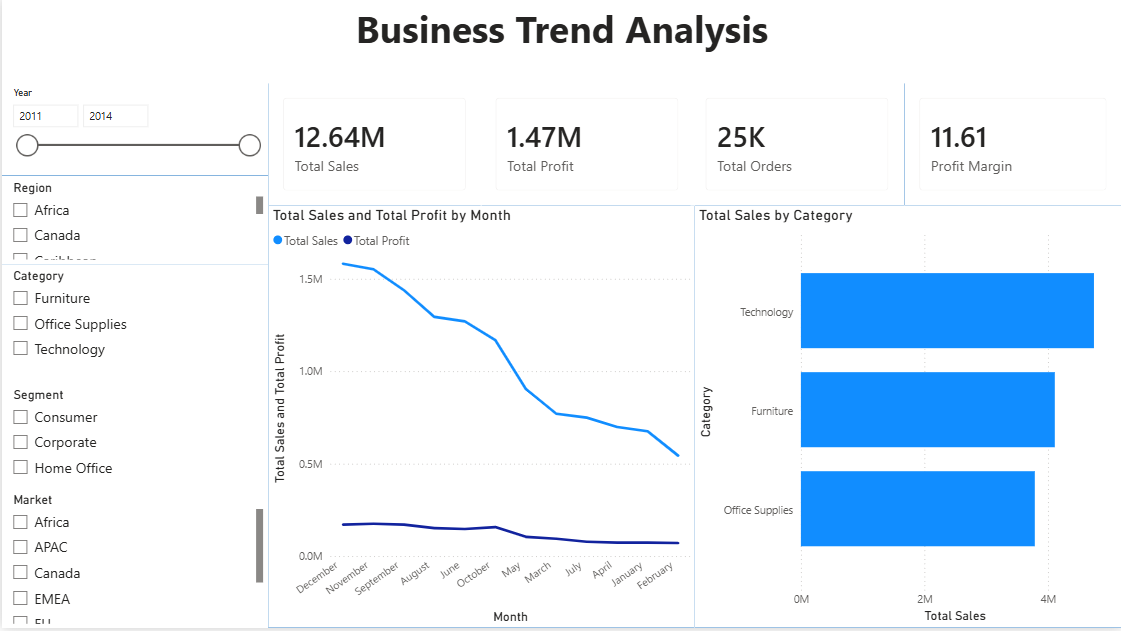

The dashboard page shown, as its layout file describes it:
{"tool":"powerbi","page":{"name":"Executive Overview ","canvas":[1280,720],"ordinal":0},"visuals":[{"type":"cardVisual","fields":{"Data":["Global_Superstore2.Total Sales"]},"box":[303.8,97.5,243.8,140],"z":0},{"type":"cardVisual","fields":{"Data":["Global_Superstore2.Total Profit"]},"box":[547.5,97.5,243.8,140],"z":1000},{"type":"cardVisual","fields":{"Data":["Global_Superstore2.Total Orders"]},"box":[787.5,97.5,243.8,140],"z":2000},{"type":"cardVisual","fields":{"Data":["Global_Superstore2.Profit Margin"]},"box":[1031.2,97.5,248.8,140],"z":3000},{"type":"lineChart","fields":{"Y":["Global_Superstore2.Total Sales","Global_Superstore2.Total Profit"],"Category":["DateTable.Month"]},"box":[303.8,237.5,487.5,482.5],"z":4000},{"type":"clusteredBarChart","fields":{"Category":["Global_Superstore2.Category"],"Y":["Global_Superstore2.Total Sales"]},"box":[791.2,237.5,488.8,482.5],"z":5000},{"type":"slicer","fields":{"Values":["DateTable.Year"]},"box":[-0.6,97.6,303.8,105],"z":6000},{"type":"slicer","fields":{"Values":["Global_Superstore2.Region"]},"box":[0,202.5,303.8,101.2],"z":7000},{"type":"slicer","fields":{"Values":["Global_Superstore2.Category"]},"box":[0,303.8,303.8,136.2],"z":8000},{"type":"slicer","fields":{"Values":["Global_Superstore2.Segment"]},"box":[0,440,303.8,120],"z":9000},{"type":"slicer","fields":{"Values":["Global_Superstore2.Market"]},"box":[0,560,303.8,160],"z":10000},{"type":"textbox","box":[0,0,1280,97.5],"z":11000}]}

Visuals, with their boxes in screenshot pixels (x1, y1, x2, y2), scaled from the page's 1280x720 canvas onto the 1121x631 screenshot:
cardVisual - Global_Superstore2.Total Sales: bbox(266, 85, 480, 208)
cardVisual - Global_Superstore2.Total Profit: bbox(479, 85, 693, 208)
cardVisual - Global_Superstore2.Total Orders: bbox(690, 85, 903, 208)
cardVisual - Global_Superstore2.Profit Margin: bbox(903, 85, 1120, 208)
lineChart - Global_Superstore2.Total Sales x Global_Superstore2.Total Profit: bbox(266, 208, 693, 630)
clusteredBarChart - Global_Superstore2.Category x Global_Superstore2.Total Sales: bbox(693, 208, 1120, 630)
slicer - DateTable.Year: bbox(0, 86, 266, 178)
slicer - Global_Superstore2.Region: bbox(0, 177, 266, 266)
slicer - Global_Superstore2.Category: bbox(0, 266, 266, 386)
slicer - Global_Superstore2.Segment: bbox(0, 386, 266, 491)
slicer - Global_Superstore2.Market: bbox(0, 491, 266, 630)
textbox: bbox(0, 0, 1120, 85)
